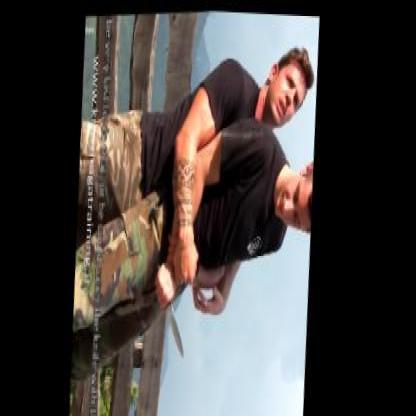knife: (151, 254, 197, 359)
